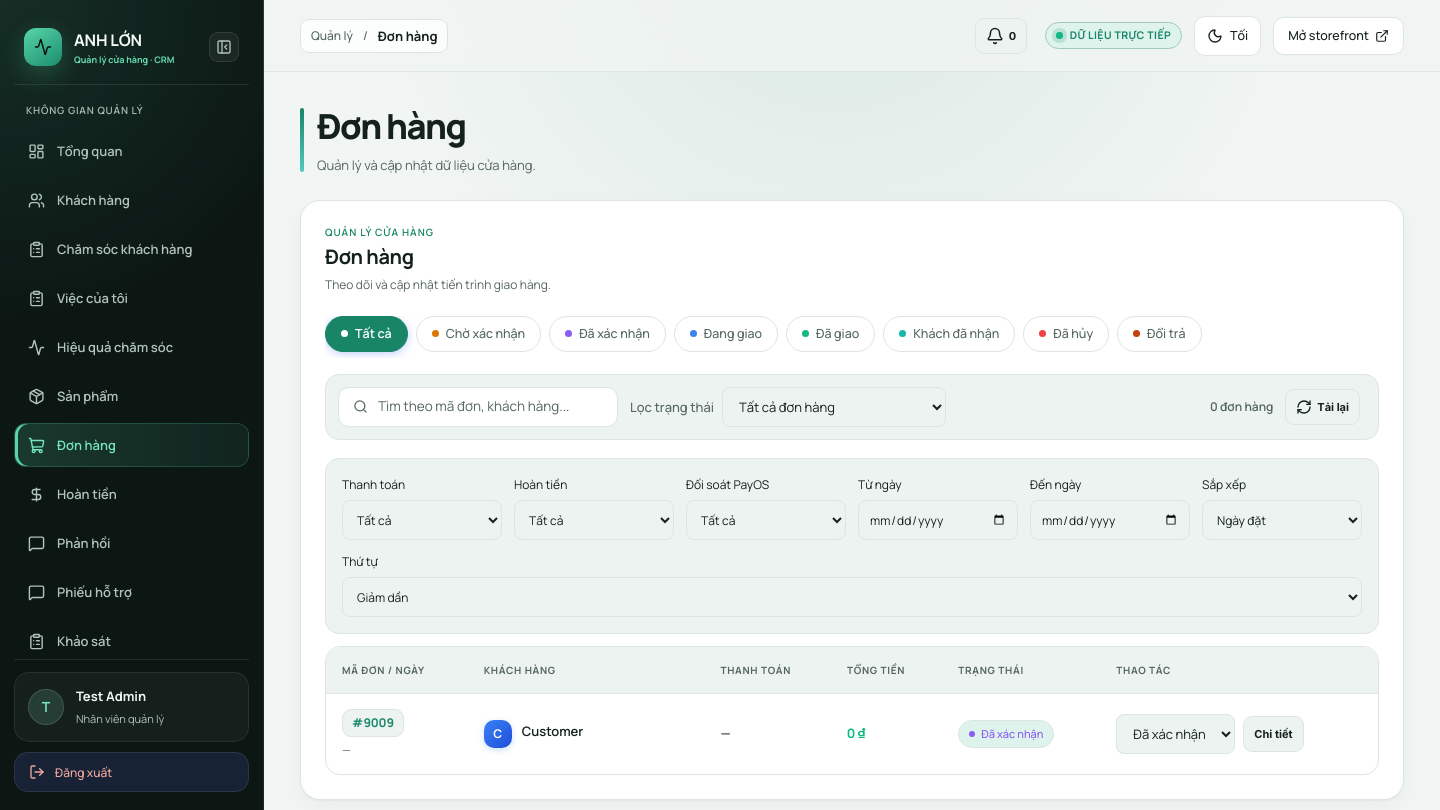
Test case: admin navigation › requires a cancellation reason, preserves it on failure and confirms before sending
The image size is (1440, 810).
Select "Đã hủy" in the dropdown named "Cập nhật trạng thái đơn 9009" at (1176, 734), box x1=1116 y1=714 x2=1235 y2=754
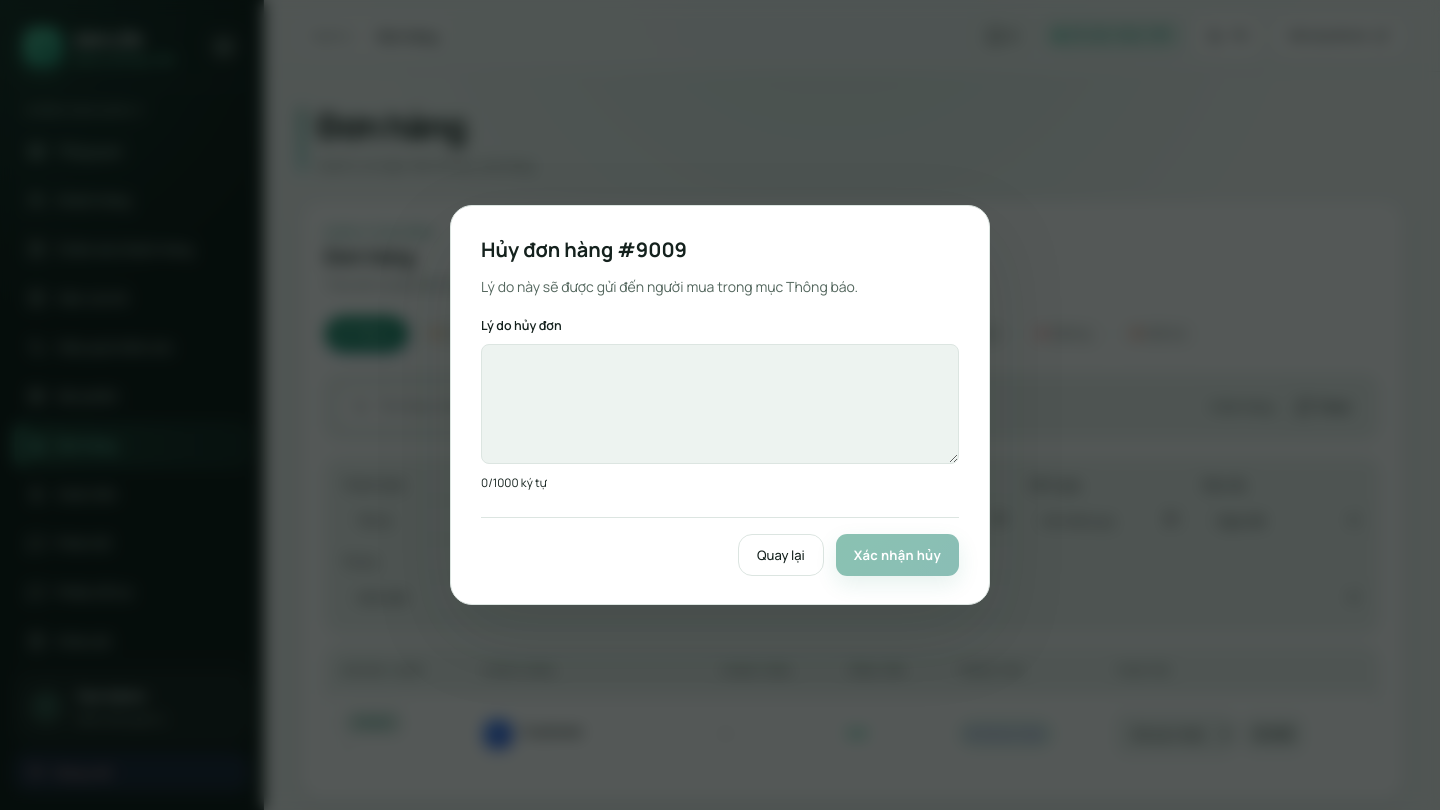
Expected: the button "Xác nhận hủy" is disabled, x1=836 y1=534 x2=959 y2=576
Click the button "Quay lại" at (781, 555), box x1=738 y1=534 x2=824 y2=576
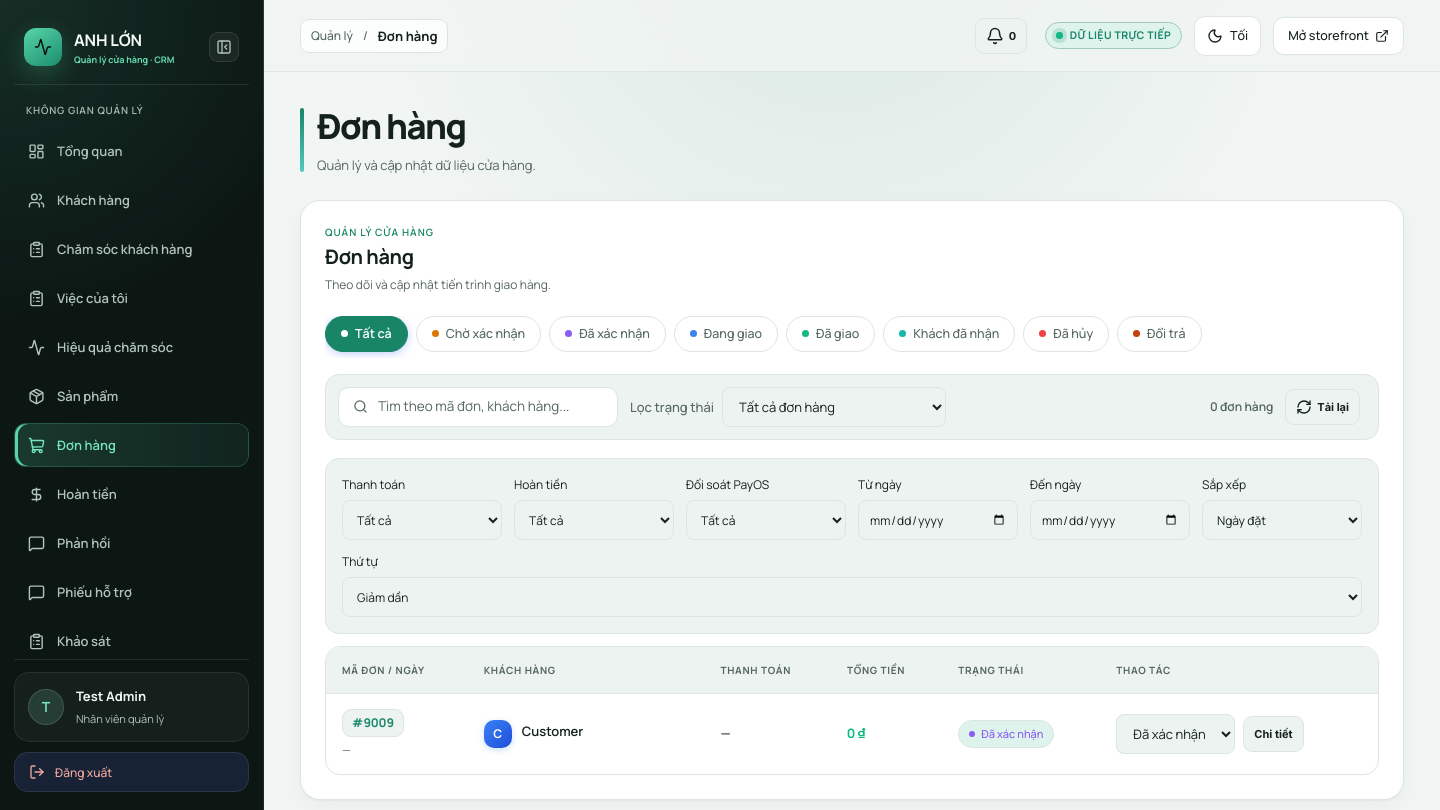
Expected: the dialog is gone
Select "Đã hủy" in the dropdown named "Cập nhật trạng thái đơn 9009" at (1176, 734), box x1=1116 y1=714 x2=1235 y2=754
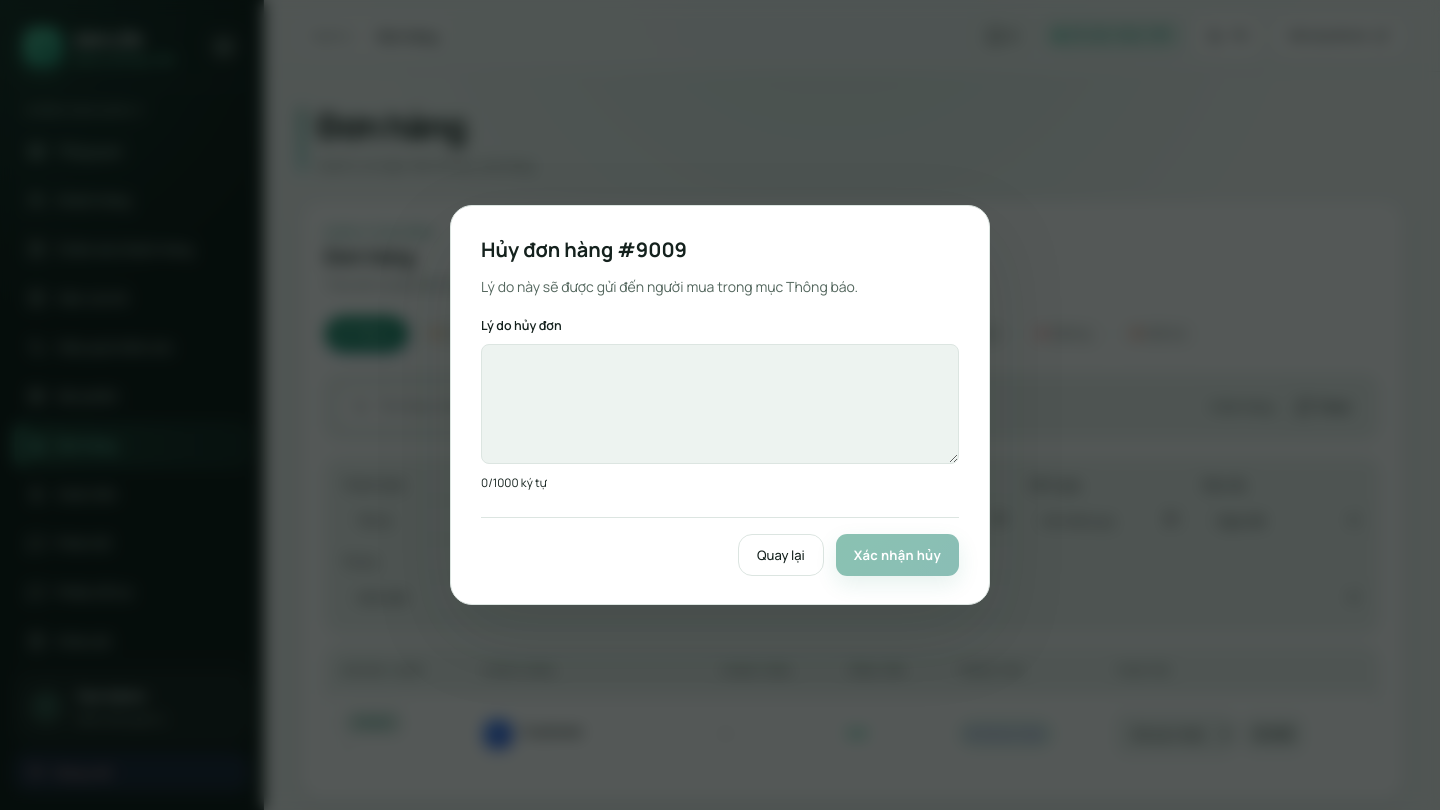
Type " Hết hàng " into the text box labelled "Lý do hủy đơn" at (720, 404), box x1=481 y1=344 x2=959 y2=464
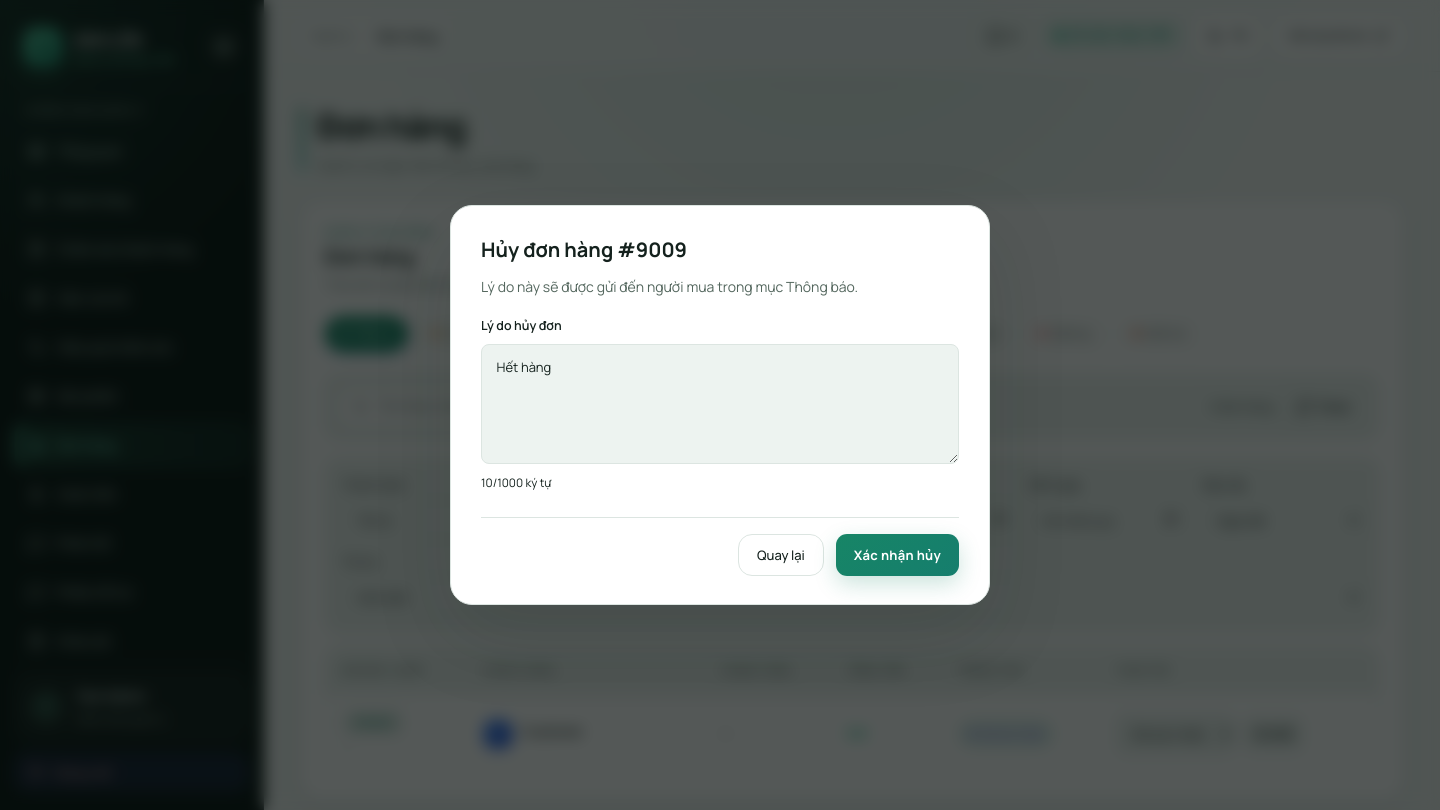
Click the button "Xác nhận hủy" at (897, 555), box x1=836 y1=534 x2=959 y2=576
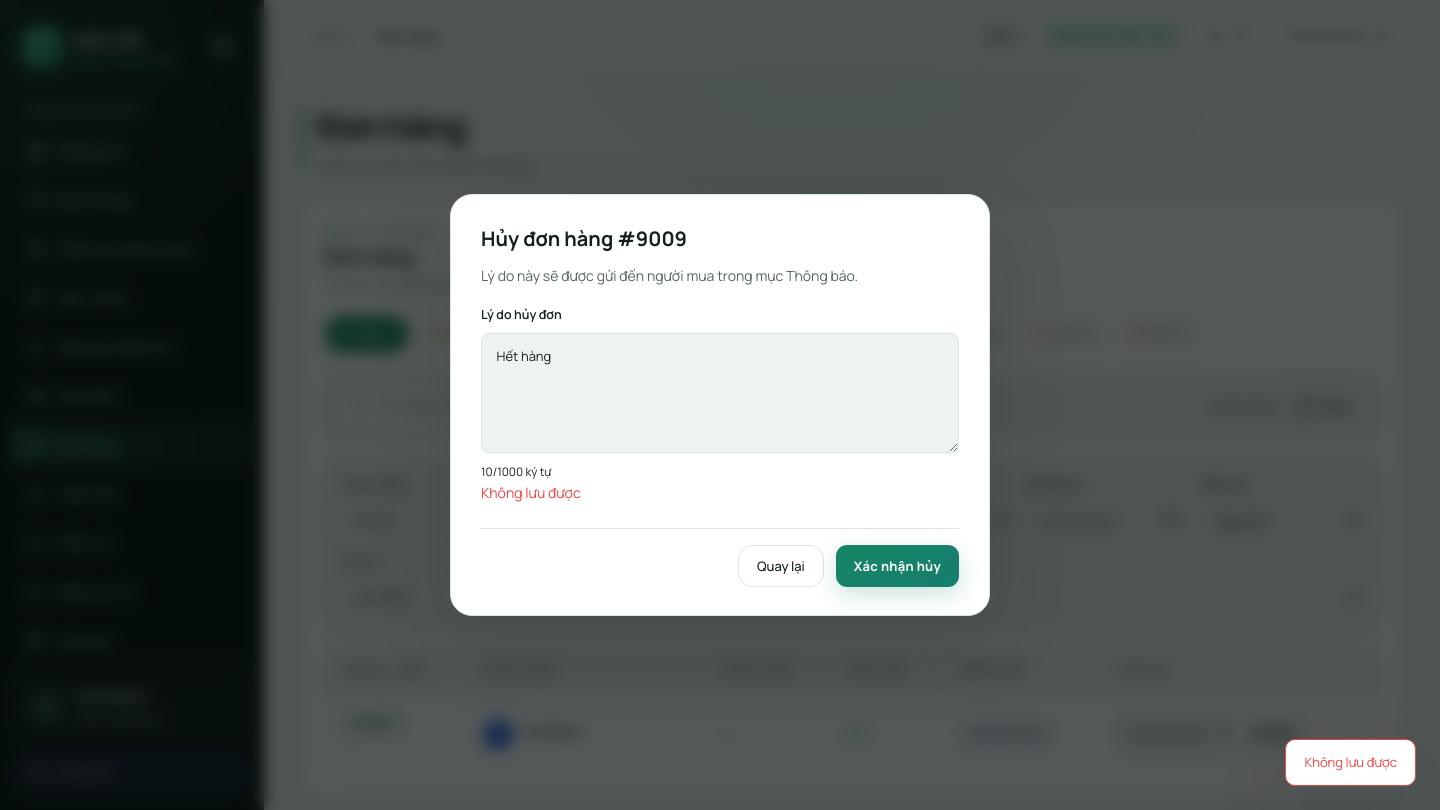
Expected: the message "Không lưu được" is shown, x1=481 y1=483 x2=581 y2=502
